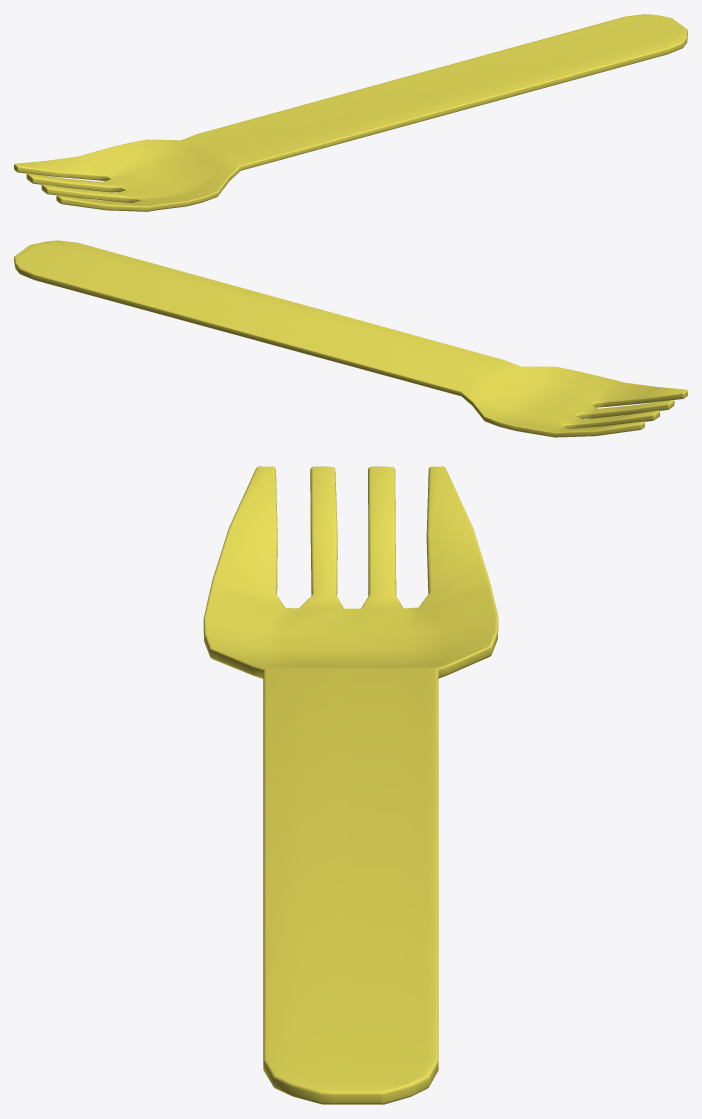
The model's file is P_Fork.fbx.
3 renders of one model, top to bottom at view 1: azimuth 30°, elevation 25°; view 2: azimuth 150°, elevation 25°; view 3: azimuth 270°, elevation 25°, orthographic. The views are drawn at different scales.
Parts seen in each view (by area): view 1: P_Fork; view 2: P_Fork; view 3: P_Fork.
Boxes of the visible parts, box(x1,y1,x2,y2) form: P_Fork: box(14, 14, 687, 211); P_Fork: box(14, 240, 687, 437); P_Fork: box(203, 466, 498, 1104).
Bounding box in the file's own units: 3914 × 204 × 778.
